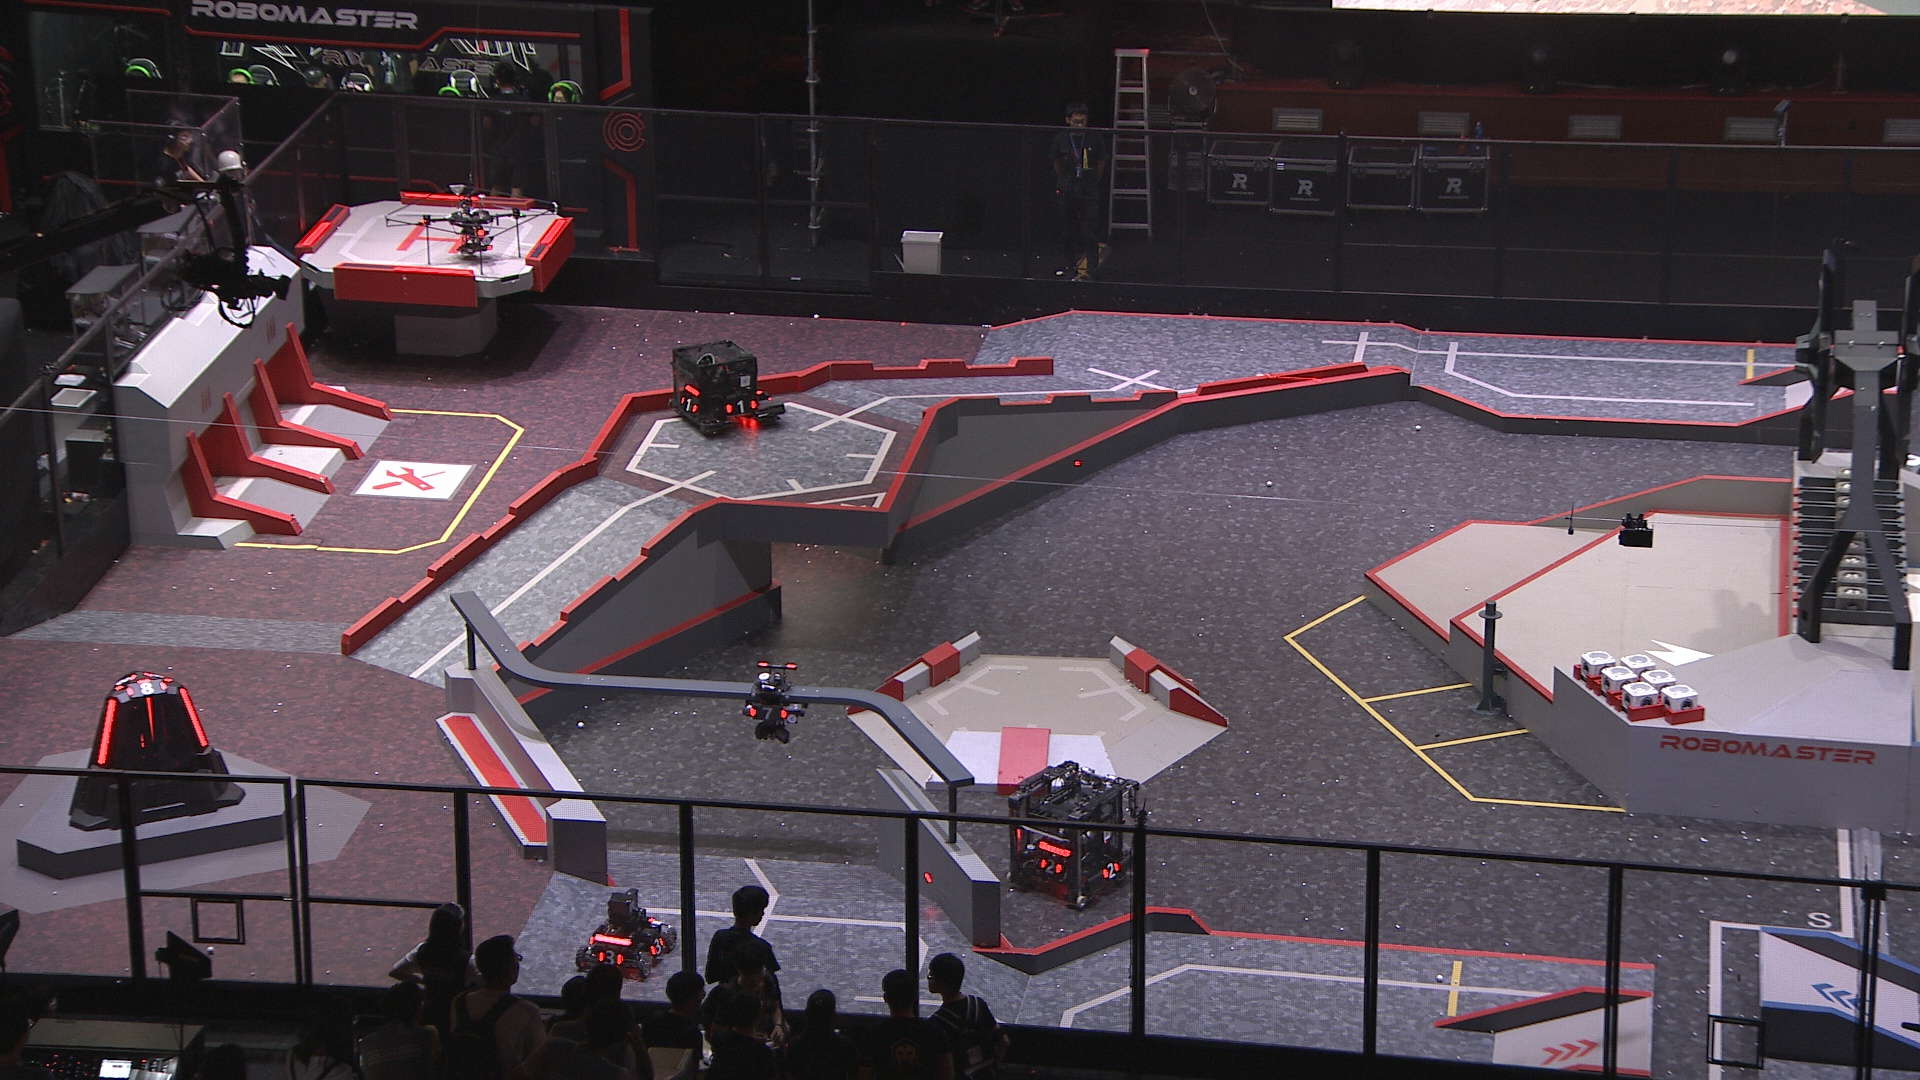armor: (177, 687, 208, 750), (95, 698, 119, 766), (128, 678, 167, 698), (746, 704, 787, 721), (111, 669, 135, 694), (724, 400, 757, 417), (144, 698, 157, 740), (1040, 856, 1063, 877), (1101, 860, 1121, 882), (597, 948, 624, 964), (679, 394, 698, 415), (650, 936, 667, 956)
base: (65, 662, 244, 829)
car: (1002, 760, 1147, 913), (666, 338, 783, 434), (575, 885, 679, 984)
watcher: (740, 657, 803, 744)
